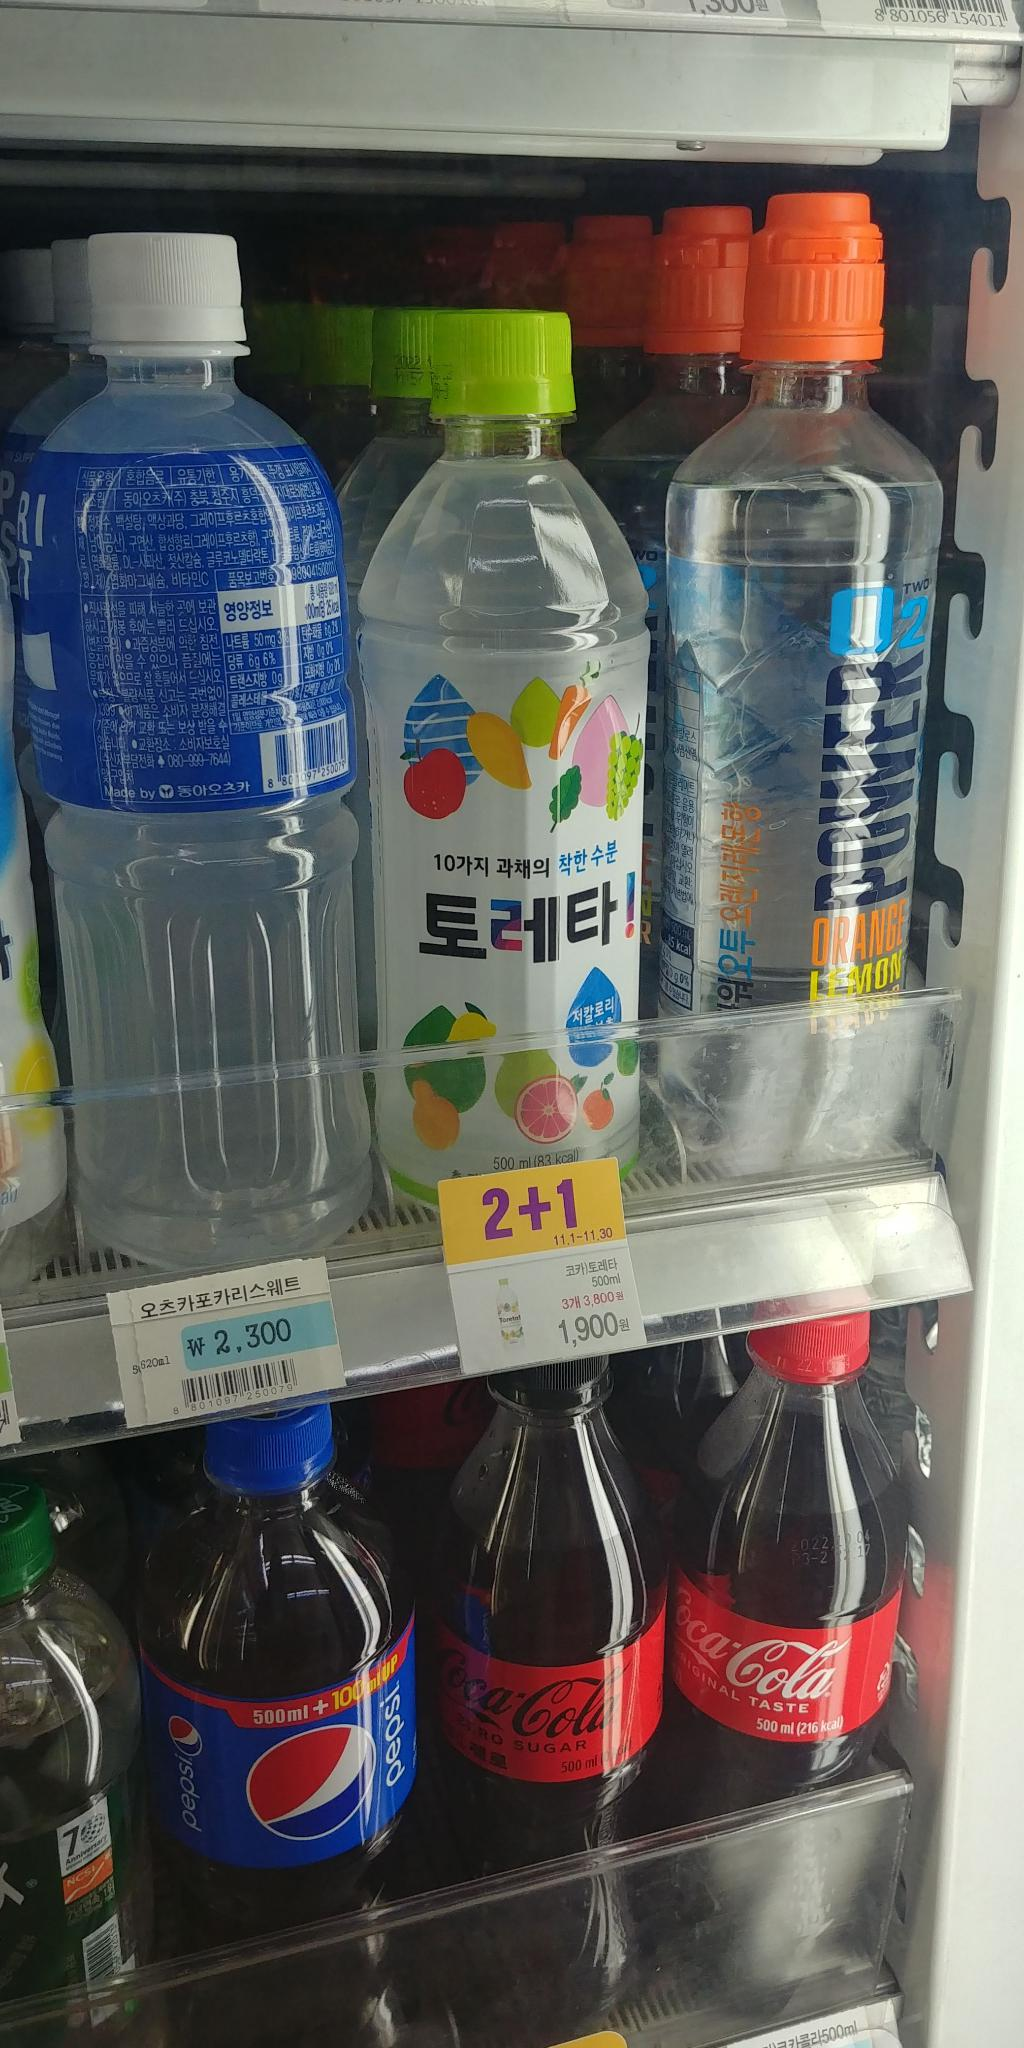pocarisweat: (22, 214, 396, 1260)
powerO2_orange: (637, 182, 942, 1156)
toreta: (333, 293, 669, 1217)
